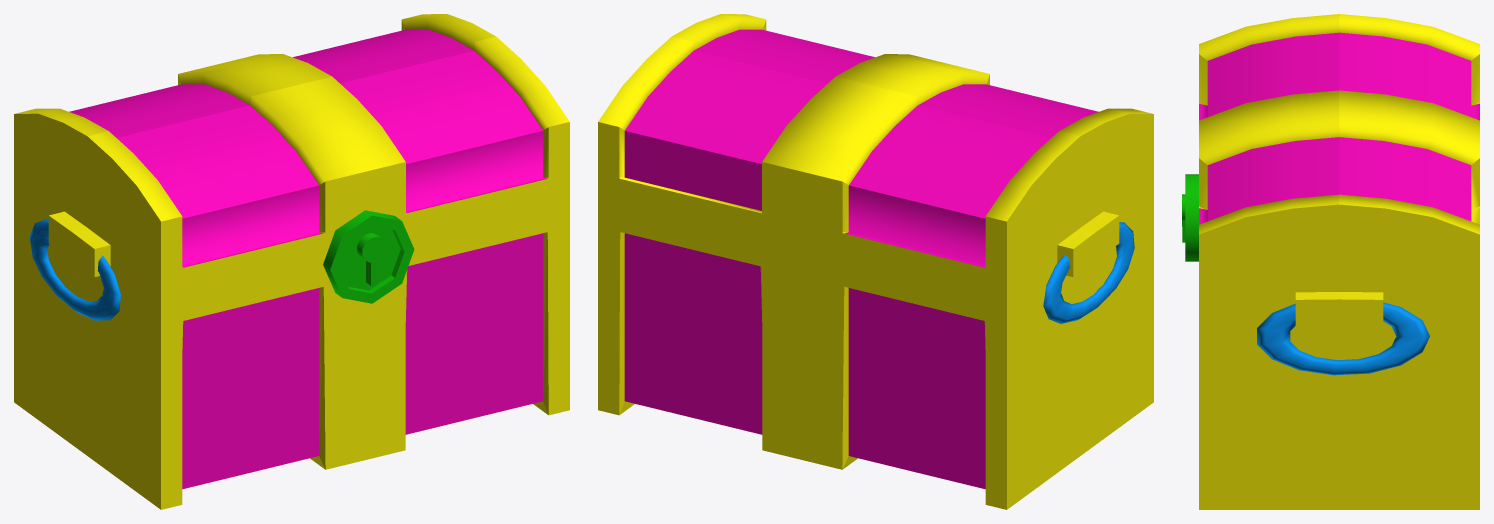
The model's file is chest fix fbx.FBX.
The picture shows the model from 3 angles, left to right: view 1: azimuth 30°, elevation 25°; view 2: azimuth 150°, elevation 25°; view 3: azimuth 270°, elevation 25°; orthographic projection. The views are drawn at different scales.
Parts seen in each view (by area): view 1: Box002, Object011, Cylinder002, Torus002; view 2: Box002, Object011, Torus002; view 3: Box002, Object011, Torus002, Cylinder002.
Part boxes in pixels (box(x1,y1,x2,y2)): Box002: box(14, 14, 569, 509); Object011: box(69, 29, 547, 489); Cylinder002: box(323, 210, 414, 303); Torus002: box(29, 218, 120, 320); Box002: box(598, 14, 1153, 509); Object011: box(624, 29, 1098, 489); Torus002: box(1043, 222, 1134, 323); Box002: box(1199, 14, 1479, 509); Object011: box(1199, 32, 1479, 224); Torus002: box(1257, 302, 1429, 375); Cylinder002: box(1182, 174, 1198, 261).
Bounding box in the file's own units: 36.28 × 24.83 × 21.94.
